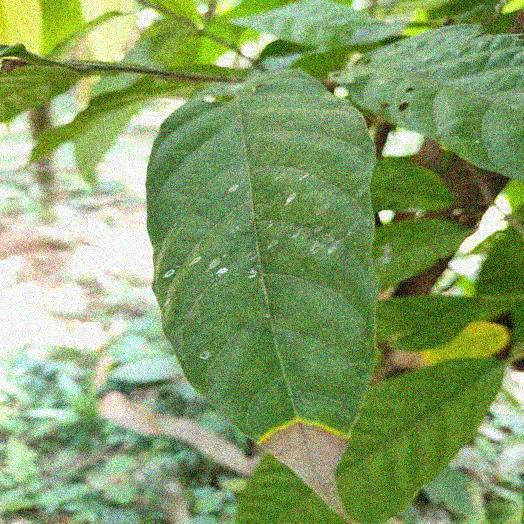Potassium: (148, 70, 378, 475)
